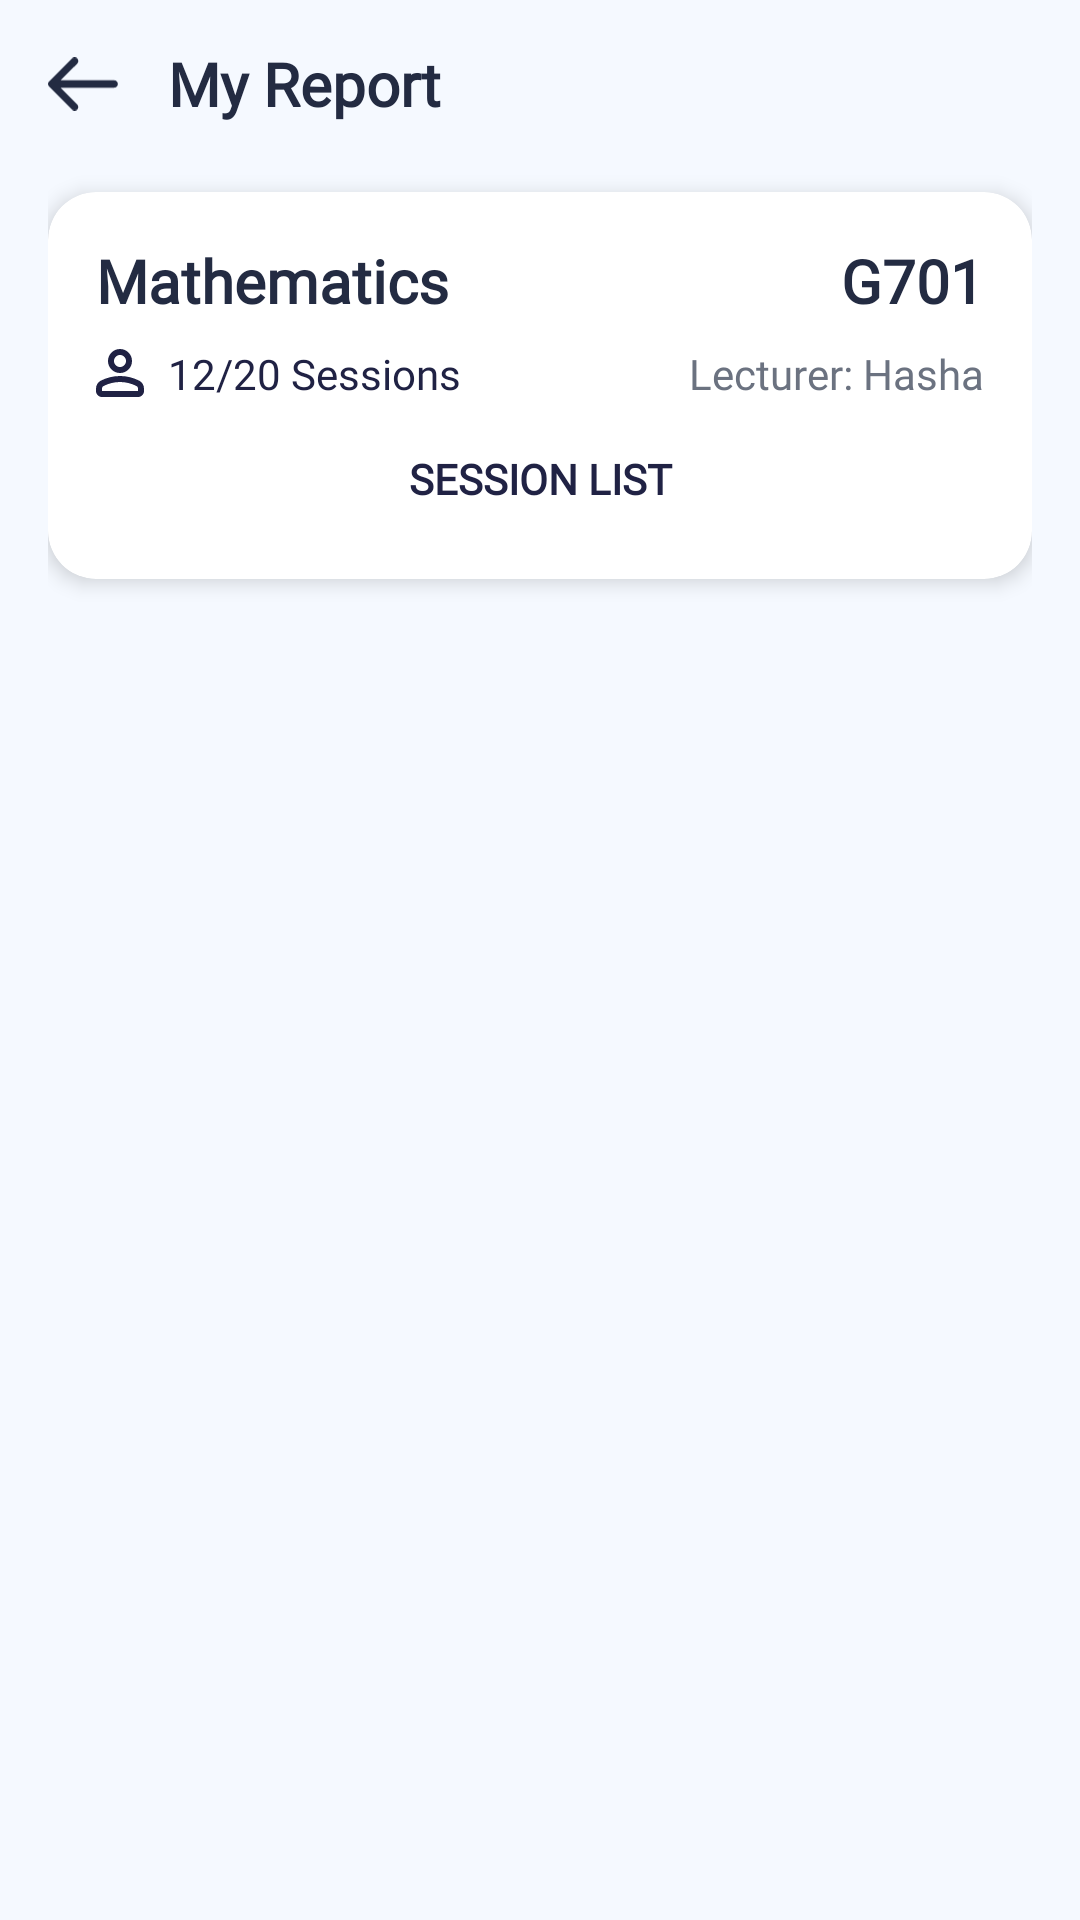

Named icons in this screenshot (1080 × 1920) and their bounding boxes, [left=x1, top=y1, right=x2, bottom=y2]:
Back: [left=48, top=57, right=118, bottom=111]
student: [left=96, top=349, right=144, bottom=397]
